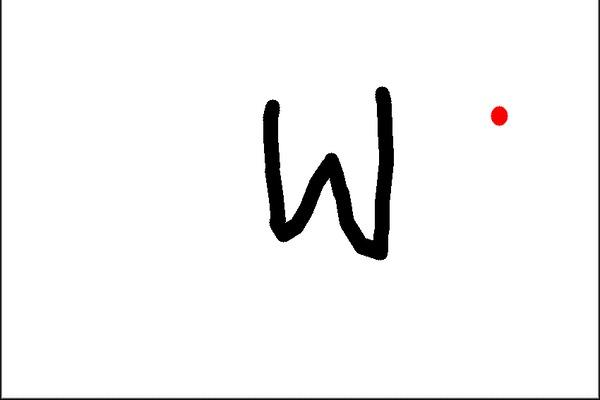w: (246, 74, 415, 305)
